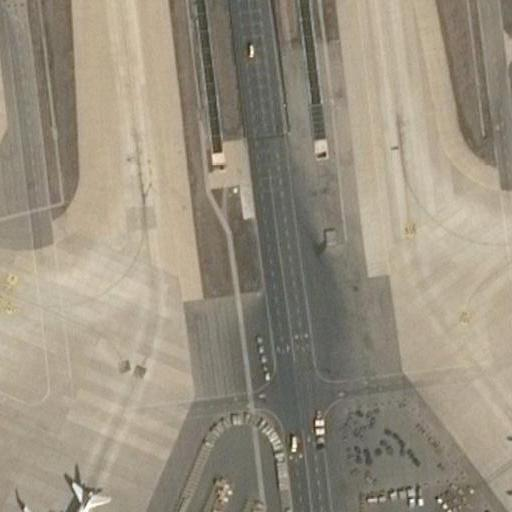Aircraft: (14, 468, 124, 512), (495, 415, 512, 512)
